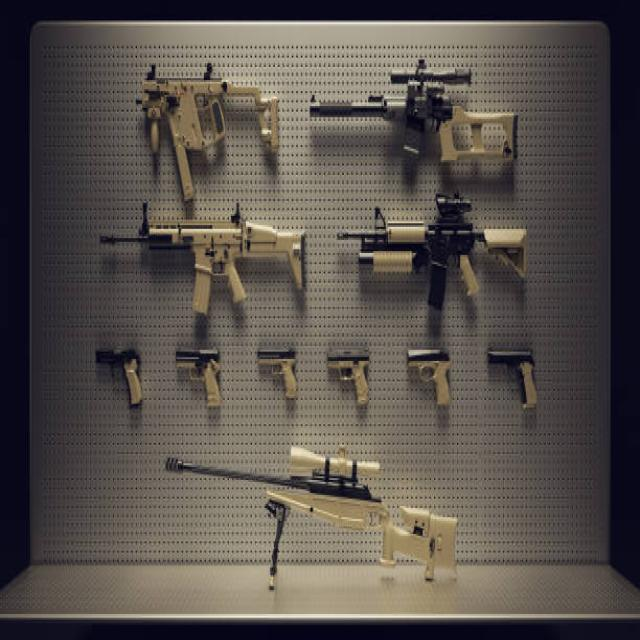HandGun: (490, 352, 539, 407), (95, 352, 142, 404), (328, 353, 370, 406), (180, 352, 220, 407), (409, 353, 451, 404), (258, 350, 299, 400)
Rifle: (164, 447, 456, 562), (339, 197, 527, 311), (310, 60, 512, 162), (101, 225, 307, 314)
SMG: (142, 78, 280, 203)
